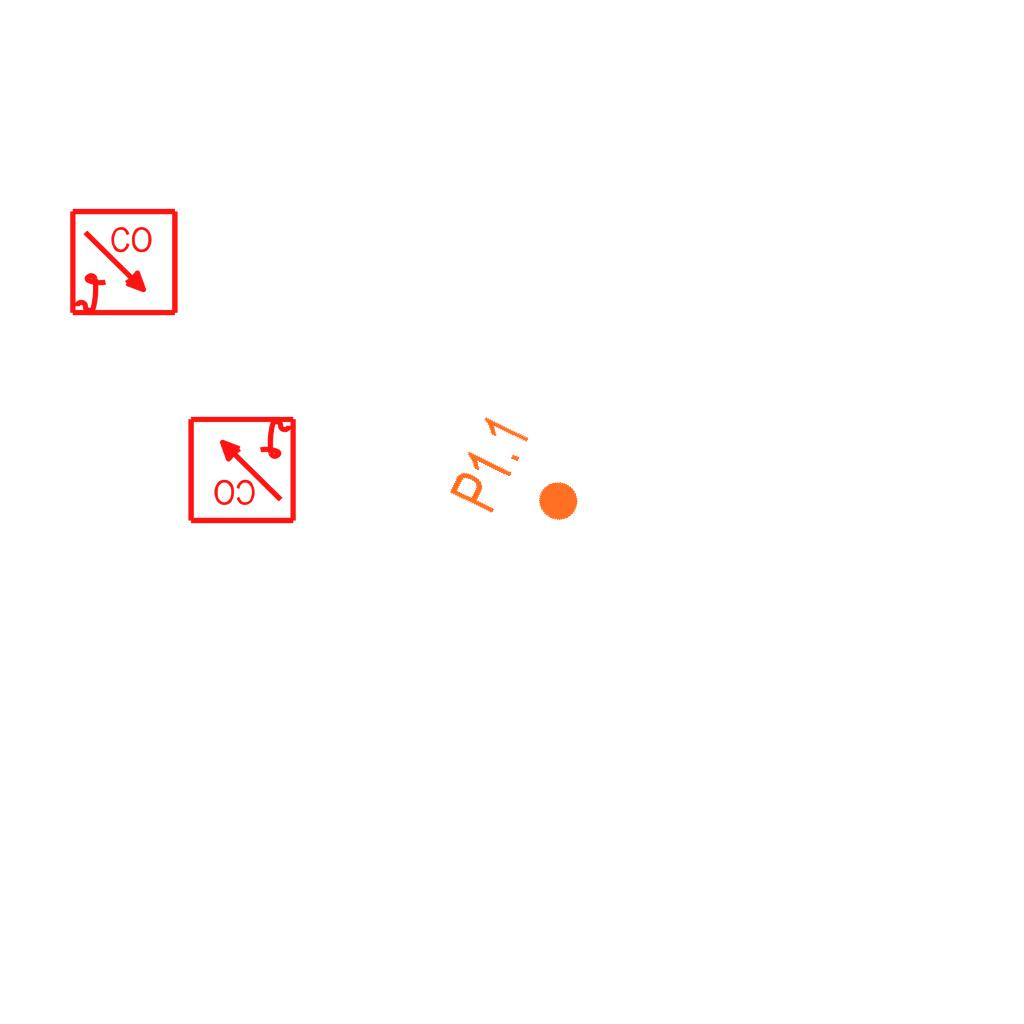Downlight_LED_Einbauleuchten_Flur: (444, 410, 601, 550)
ROA_Rauchmelder_optisch_mit_Signalgeber_(Sockelsirene): (185, 412, 298, 525), (68, 207, 181, 320)
